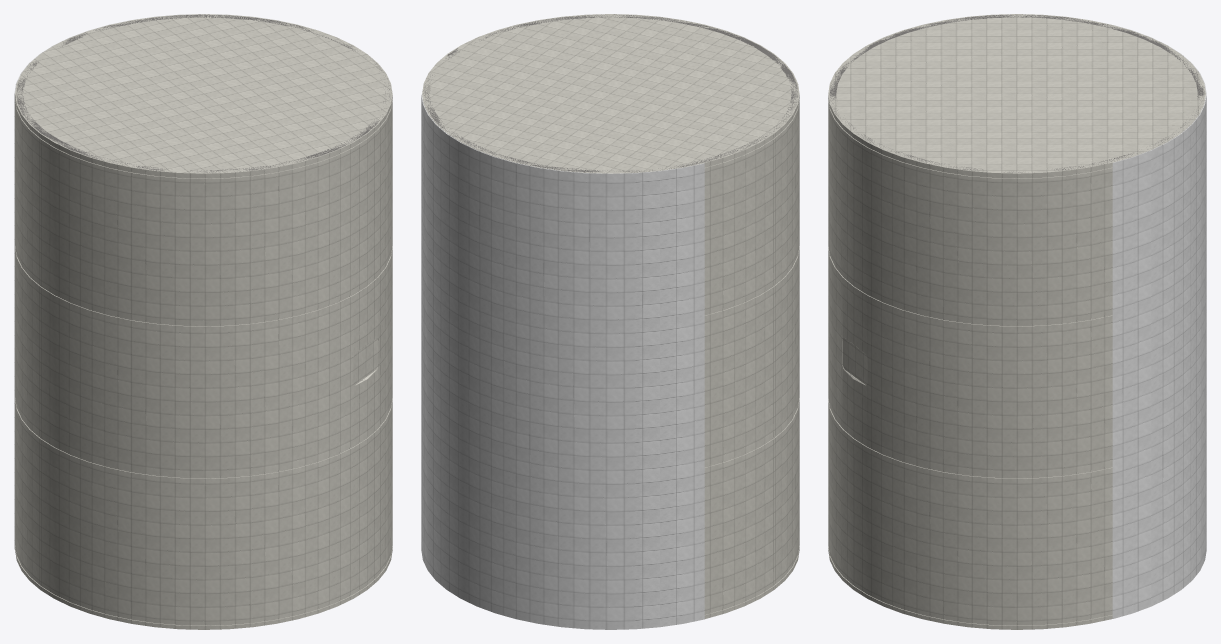
File: ax_aero_12_fs3x_fuselage_long.glb
3 renders of one model, left to right at view 1: azimuth 30°, elevation 25°; view 2: azimuth 150°, elevation 25°; view 3: azimuth 270°, elevation 25°, orthographic.
Visible parts, largest first — view 1: fuselage, end_frames, belly_tiles; view 2: belly_tiles, fuselage, end_frames; view 3: fuselage, belly_tiles, end_frames.
Boxes of the visible parts, box(x1,y1,x2,y2) form: fuselage: box(15, 14, 392, 629); end_frames: box(16, 14, 390, 172); belly_tiles: box(14, 14, 297, 549); belly_tiles: box(421, 94, 704, 629); fuselage: box(422, 14, 799, 618); end_frames: box(423, 14, 797, 172); fuselage: box(828, 14, 1205, 629); belly_tiles: box(1112, 25, 1206, 618); end_frames: box(829, 14, 1204, 172).
Size of the model in its own units: 3.75 by 5 by 3.76.
3 materials, 3 textured.
